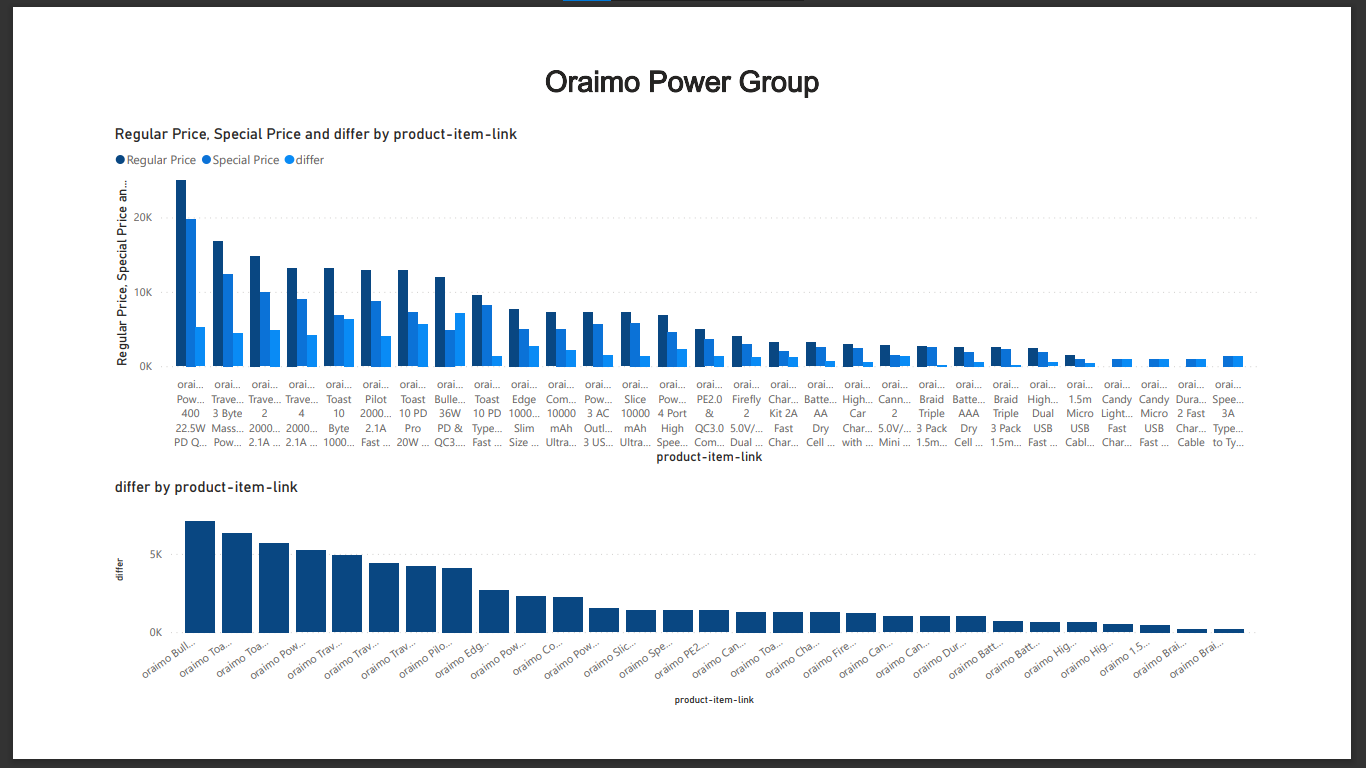

The page's visual inventory and layout, read from the dashboard file:
{"tool":"powerbi","page":{"name":"Page 5","canvas":[1280,720],"ordinal":4},"visuals":[{"type":"textbox","box":[9.9,0,1269.5,59.2],"z":0},{"type":"clusteredColumnChart","fields":{"Category":["Power.product-item-link"],"Y":["Sum(Power.Regular Price)","Sum(Power.Special Price)","Sum(Power.differ)"]},"box":[9.9,74.7,1269.5,379],"z":1},{"type":"lineClusteredColumnComboChart","fields":{"Category":["Power.product-item-link"],"Y":["Sum(Power.differ)"]},"box":[10,464,1270,256],"z":2}]}

Visuals, with their boxes in screenshot pixels (x1, y1, x2, y2), scaled from the page's 1280x720 canvas onto the 1366x768 screenshot:
textbox: {"x1": 11, "y1": 0, "x2": 1365, "y2": 63}
clusteredColumnChart - Power.product-item-link x Sum(Power.Regular Price): {"x1": 11, "y1": 80, "x2": 1365, "y2": 484}
lineClusteredColumnComboChart - Power.product-item-link x Sum(Power.differ): {"x1": 11, "y1": 495, "x2": 1365, "y2": 767}
